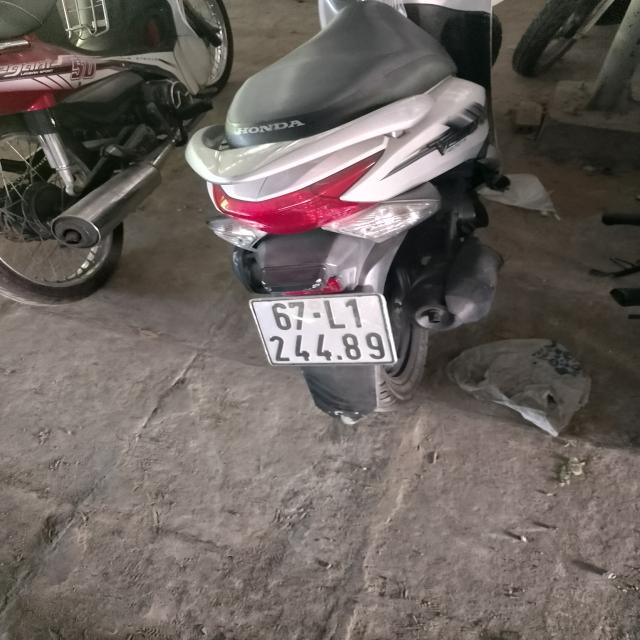1: (345, 297, 368, 329)
2: (269, 334, 292, 362)
4: (293, 333, 311, 362), (316, 333, 332, 362)
6: (269, 302, 293, 330)
7: (290, 299, 306, 330)
8: (340, 332, 363, 360)
9: (366, 332, 388, 360)
L: (322, 300, 346, 329)
